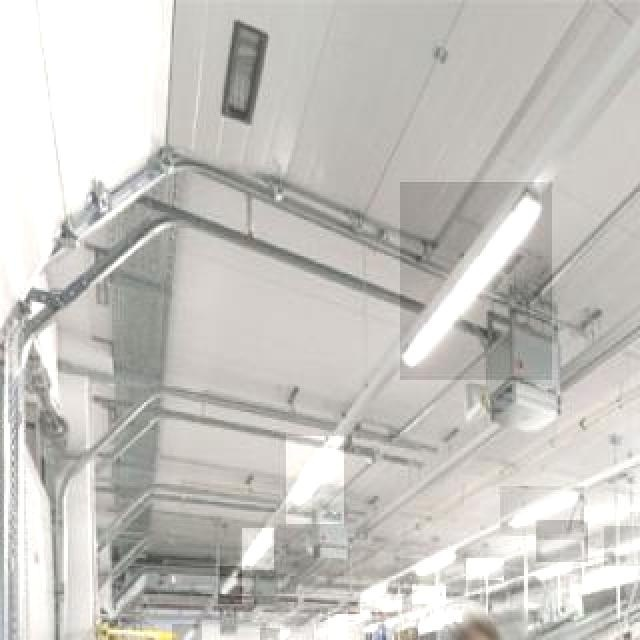fluorescent tube: (393, 182, 549, 371), (289, 429, 346, 524), (411, 529, 469, 587), (503, 491, 581, 529), (247, 520, 285, 576), (544, 524, 587, 558), (213, 556, 240, 604), (612, 528, 640, 558), (638, 462, 640, 510)
